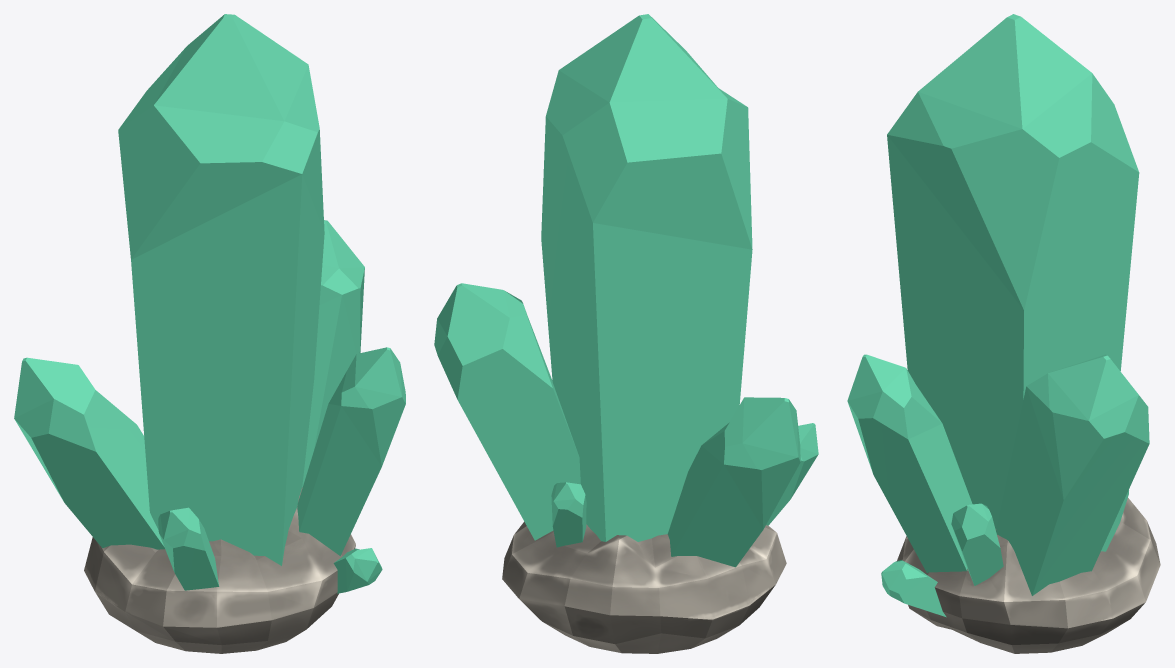
The model's file is Crystal_5_03.fbx.
3 renders of one model, left to right at view 1: azimuth 30°, elevation 25°; view 2: azimuth 150°, elevation 25°; view 3: azimuth 270°, elevation 25°, orthographic.
Parts seen in each view (by area): view 1: Crystal_5_03; view 2: Crystal_5_03; view 3: Crystal_5_03.
Part boxes in pixels (x1=…): Crystal_5_03: x1=14, y1=14, x2=405, y2=653; Crystal_5_03: x1=434, y1=14, x2=818, y2=653; Crystal_5_03: x1=847, y1=14, x2=1160, y2=653.
Size of the model in its own units: 131 by 214 by 99.34.
2 materials, 1 textured.
